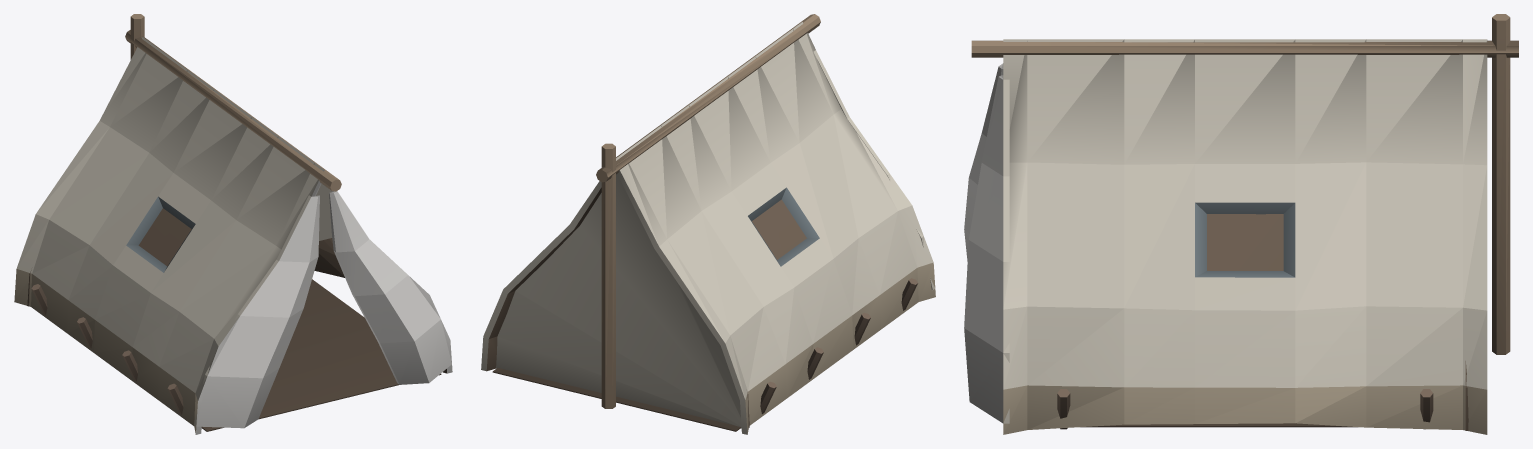
Rendered from tent.glb.
The picture shows the model from 3 angles, left to right: view 1: azimuth 30°, elevation 25°; view 2: azimuth 150°, elevation 25°; view 3: azimuth 270°, elevation 25°; orthographic projection. The views are drawn at different scales.
Visible parts, largest first — view 1: tent; view 2: tent; view 3: tent.
Part boxes in pixels (x1,y1,x2,y2): tent: (14,14,452,434); tent: (481,14,935,434); tent: (964,14,1518,434).
Size of the model in its own units: 3.13 by 2.77 by 4.17.
